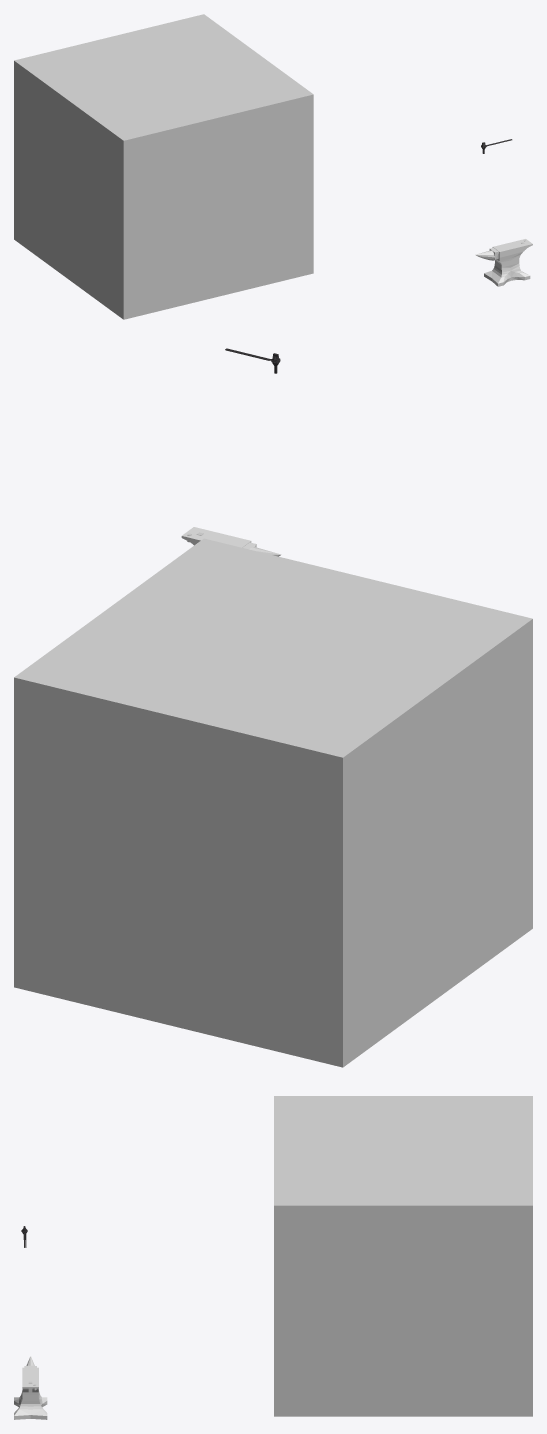
File: squaredriftpunch.dae
3 views of the same model, one above another, from view 1: azimuth 30°, elevation 25°; view 2: azimuth 150°, elevation 25°; view 3: azimuth 270°, elevation 25° (orthographic). The views are drawn at different scales.
Parts seen in each view (by area): view 1: Cube_004, Cube_002; view 2: Cube_004, Cube_002; view 3: Cube_004, Cube_002.
Part boxes in pixels (box(x1,y1,x2,y2)): Cube_004: box(14, 14, 313, 319); Cube_002: box(475, 239, 532, 286); Cube_004: box(14, 538, 532, 1067); Cube_002: box(181, 527, 280, 556); Cube_004: box(274, 1096, 532, 1416); Cube_002: box(14, 1356, 47, 1419).
Size of the model in its own units: 3.18 by 4.01 by 1.93.
Materials: 1 (1 with a texture image).
